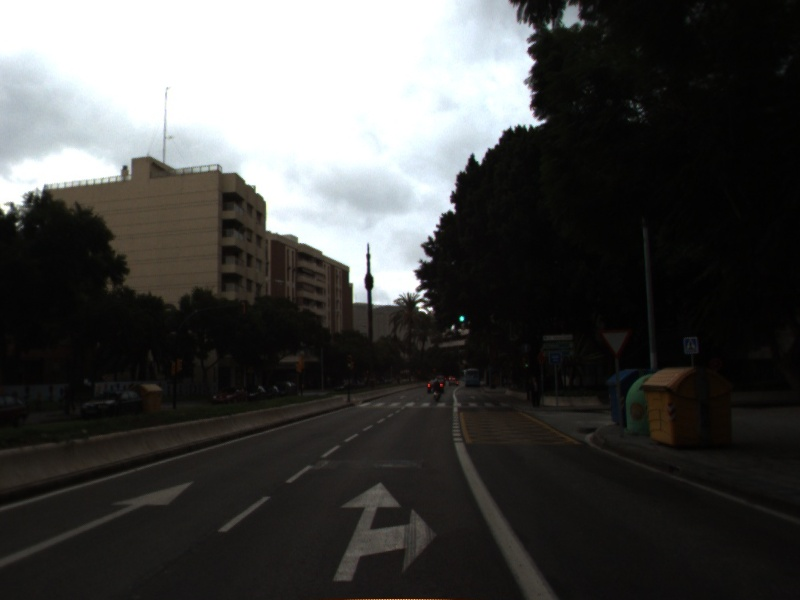STRAIGHT: (1, 478, 198, 568)
STRAIGHT_RIGHT: (331, 479, 442, 584)
